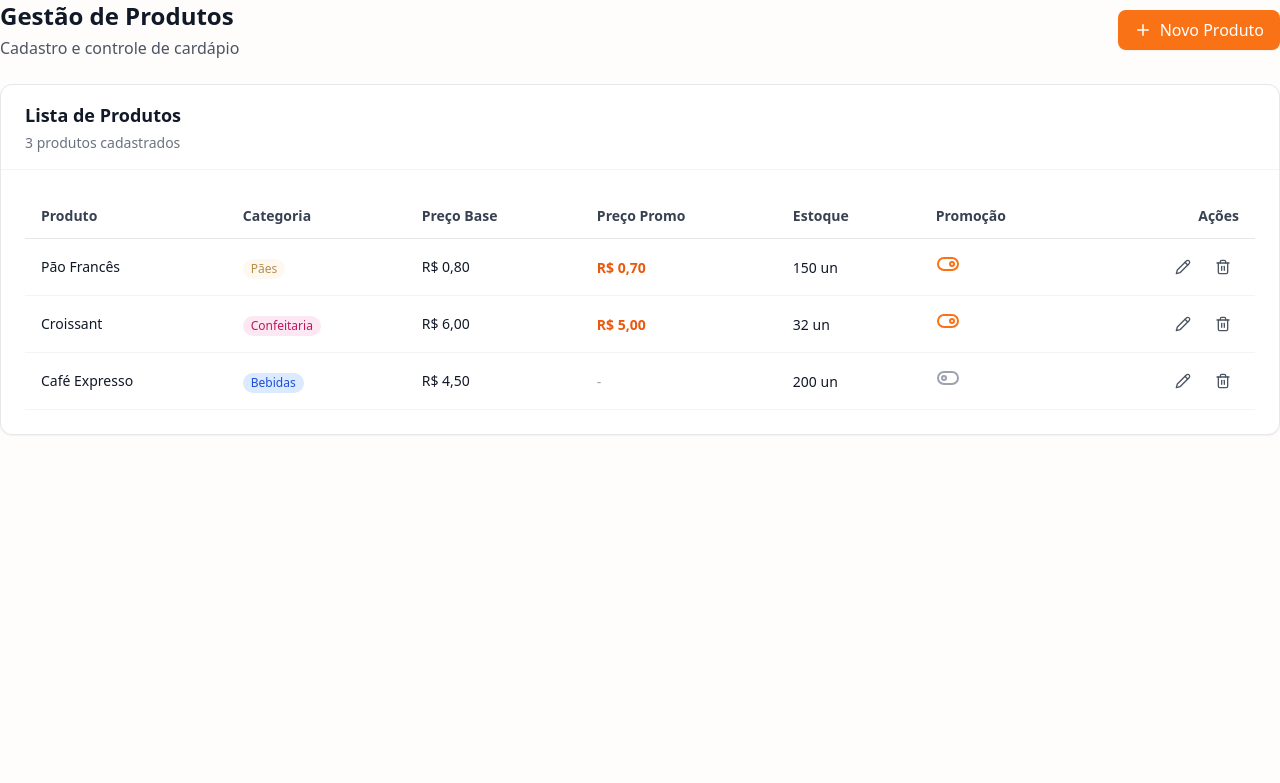
it: Products › Create Product › submits new product and adds to list
Expected: the text "Pão Francês" is shown, [41,257,120,277]
Click the button "Novo Produto": [1199, 30] box [1118,10,1279,50]
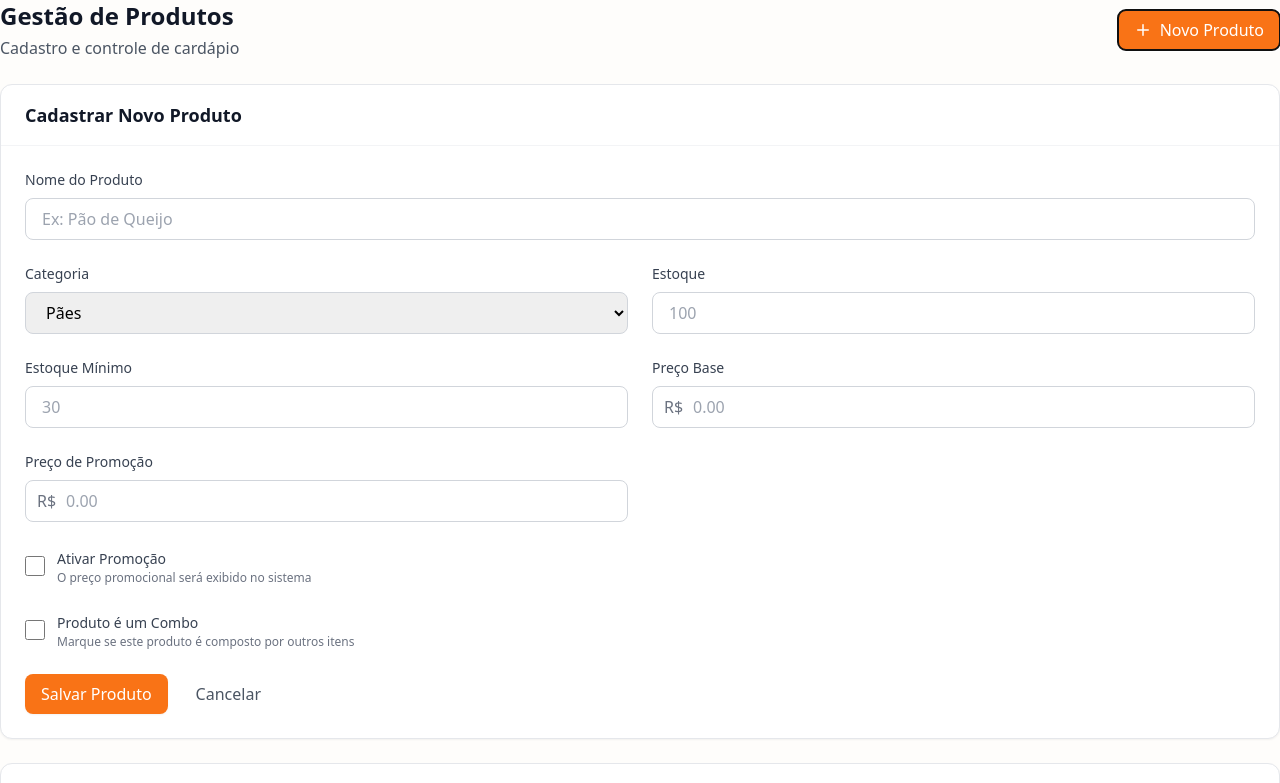
In the field with placeholder "Ex: Pão de Queijo": [640, 219] box [25,198,1255,240], type "Bolo de Cenoura"
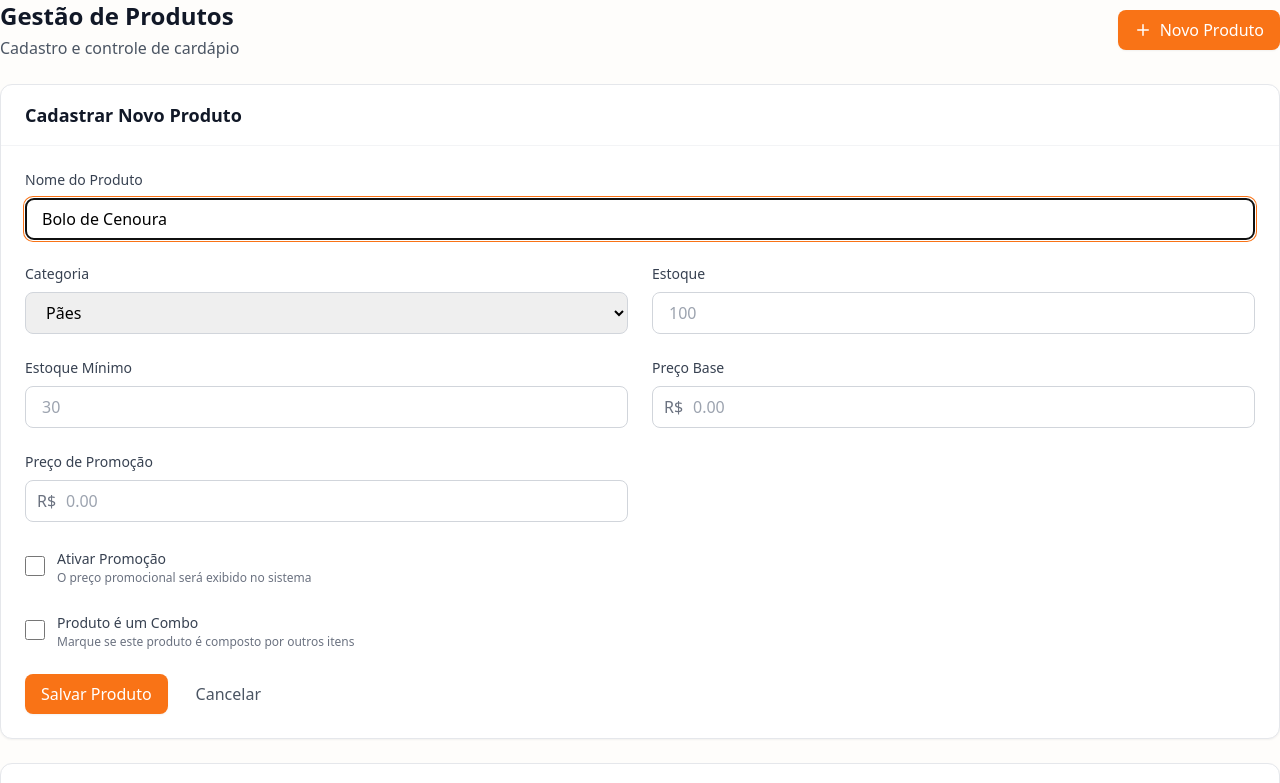
In the number field with placeholder "100": [954, 313] box [652,292,1255,334], type "10"
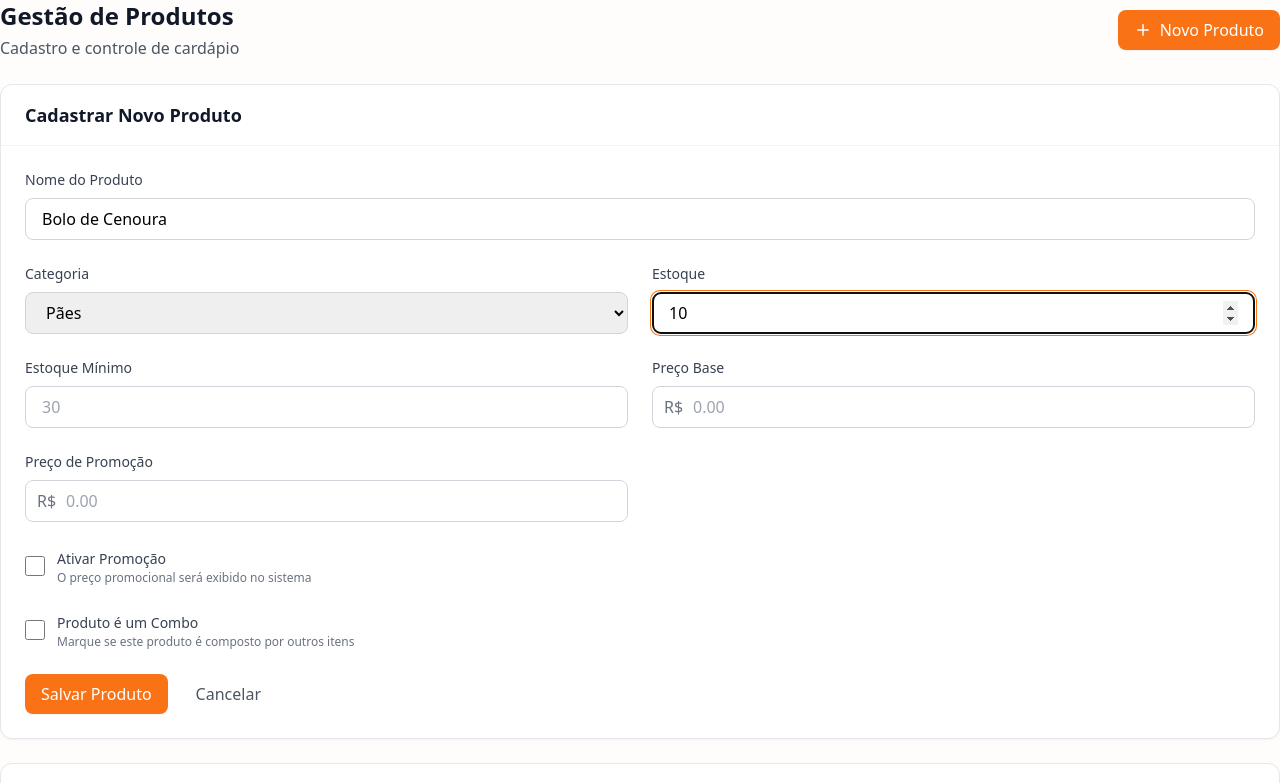
In the number field with placeholder "30": [326, 407] box [25,386,628,428], type "5"
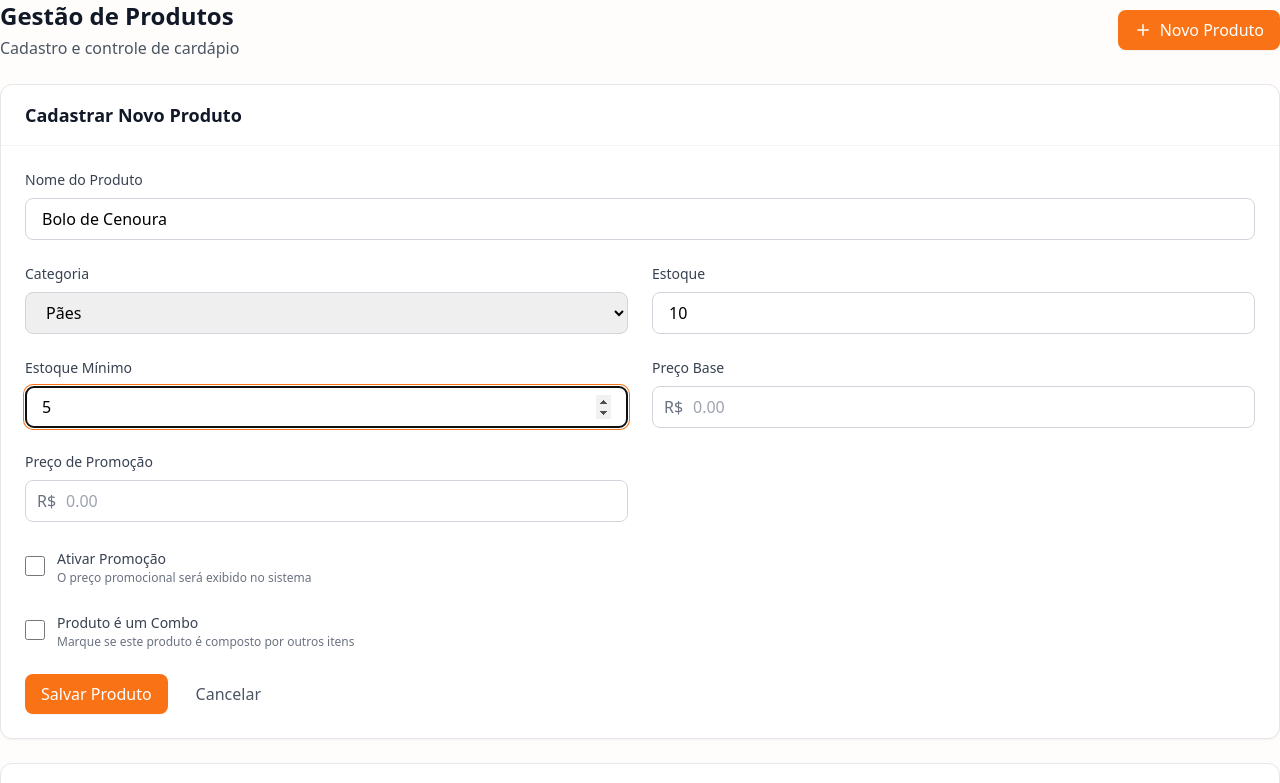
# There are two "0.00" placeholders (base price and promo price) — pick first
In the 1st number field with placeholder "0.00": [954, 407] box [652,386,1255,428], type "25.00"
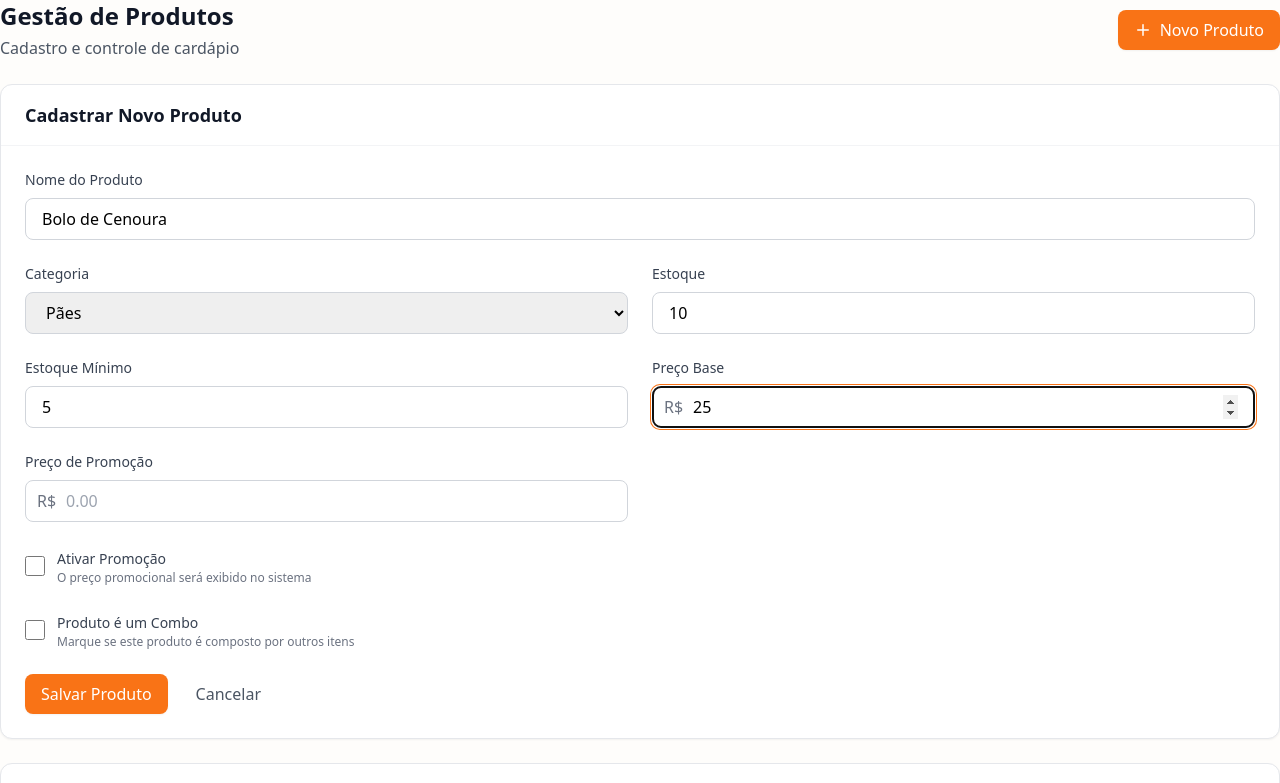
Click the button "Salvar Produto": [96, 694] box [25,674,168,714]
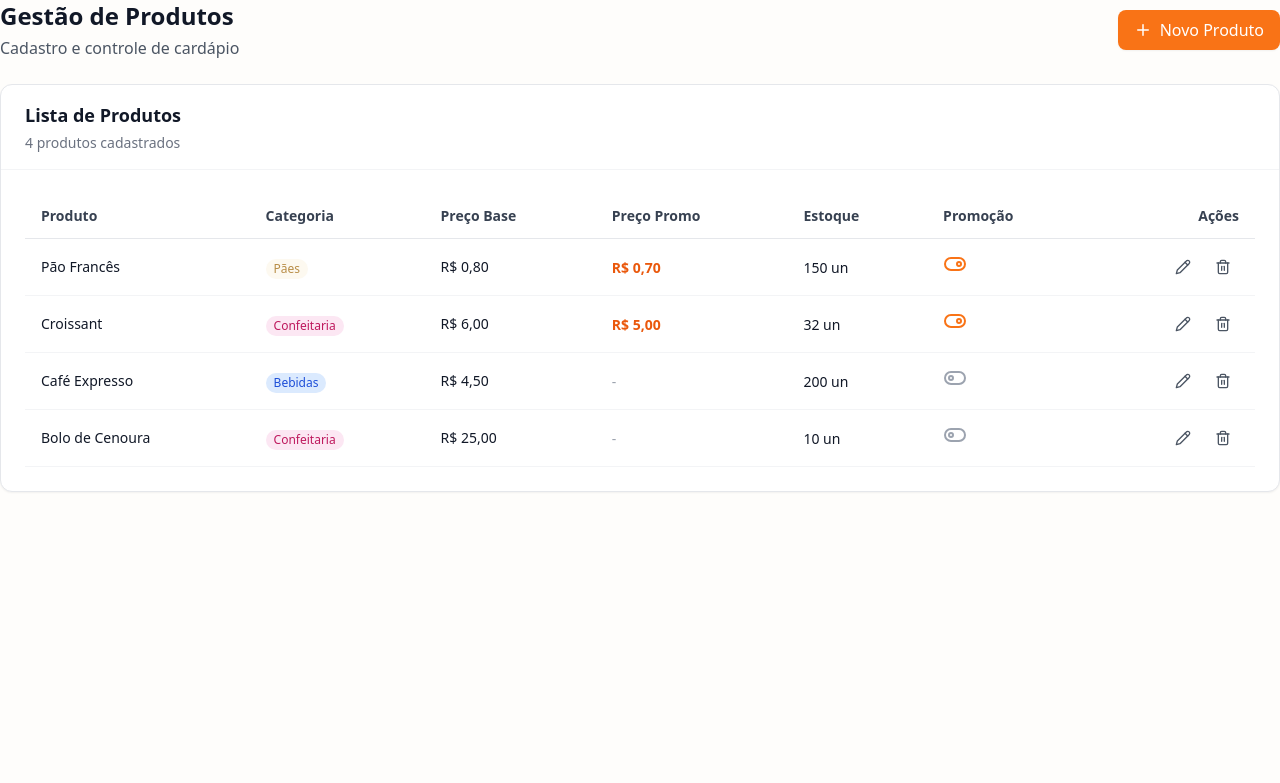
Result: the text "Bolo de Cenoura" is shown at [41,428,150,448]
